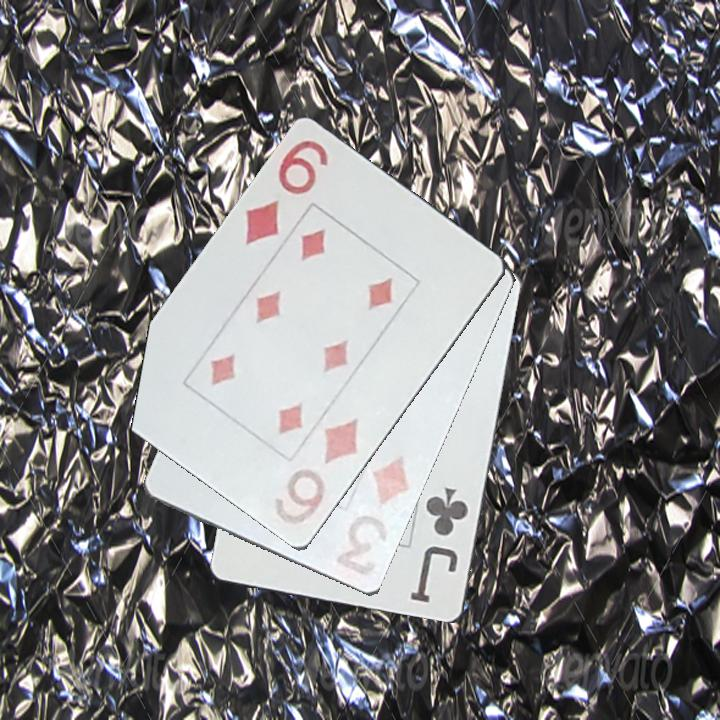3d: (327, 452, 413, 580)
6d: (241, 133, 332, 249), (271, 414, 361, 529)
Jc: (407, 483, 472, 607)
